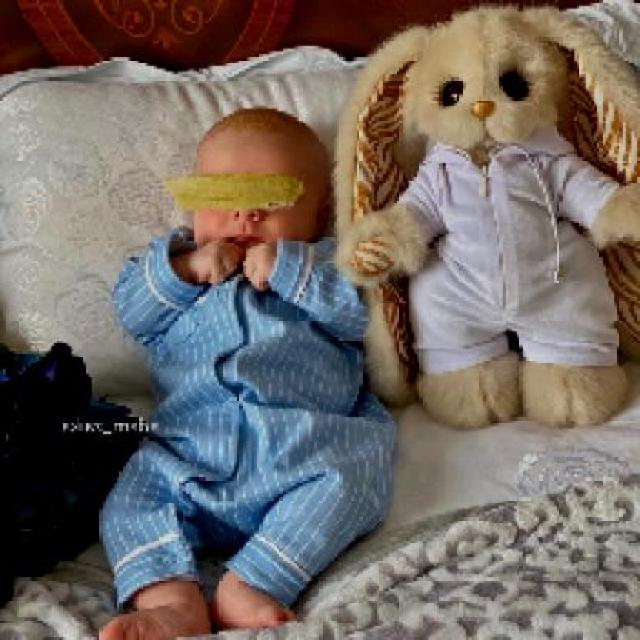child: (97, 105, 400, 638)
